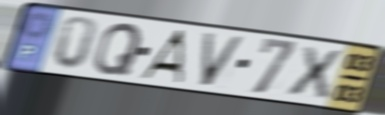0: (51, 15, 100, 72)
7: (253, 36, 299, 98)
A: (137, 28, 189, 86)
Q: (92, 21, 145, 77)
V: (199, 30, 249, 89)
X: (285, 44, 345, 100)
